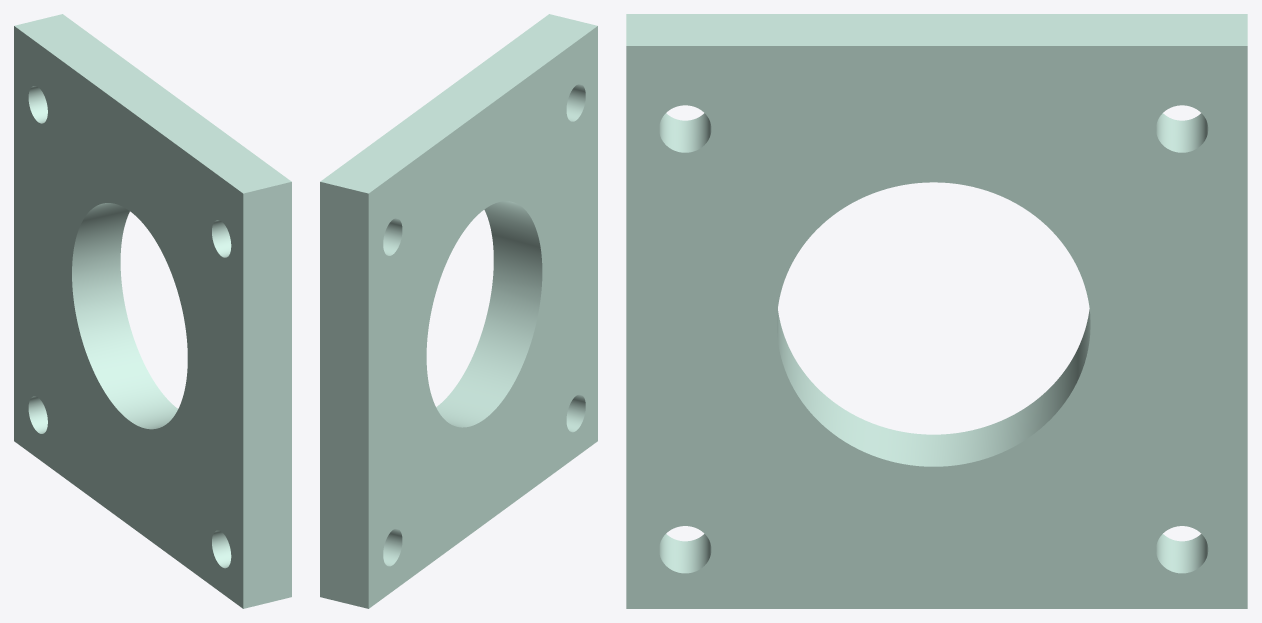
3 views of the same model, side by side, from view 1: azimuth 30°, elevation 25°; view 2: azimuth 150°, elevation 25°; view 3: azimuth 270°, elevation 25° (orthographic). The views are drawn at different scales.
Parts seen in each view (by area): view 1: Renderer Node; view 2: Renderer Node; view 3: Renderer Node.
Boxes of the visible parts, left/top/right/bottom form: Renderer Node: left=14, top=14, right=291, bottom=608; Renderer Node: left=320, top=14, right=597, bottom=608; Renderer Node: left=626, top=14, right=1247, bottom=608.
Bounding box in the file's own units: 0.1875 × 1.53 × 1.53.
